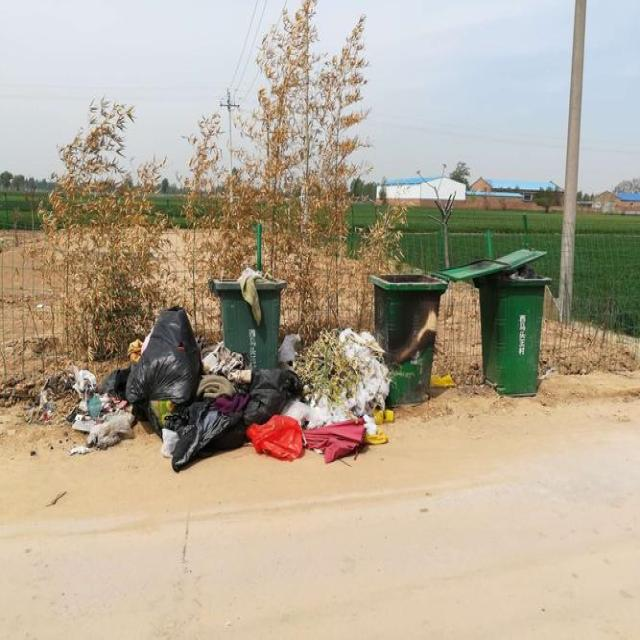garbage: (72, 308, 393, 472)
garbage_bin: (366, 270, 445, 402)
overflow: (479, 248, 551, 392), (211, 266, 285, 369)
